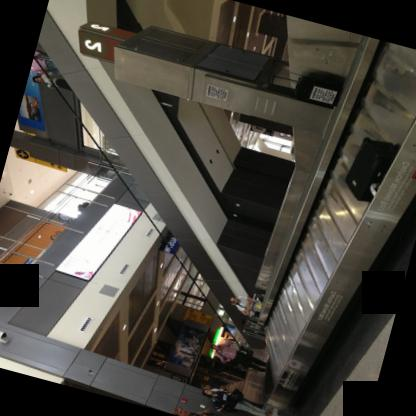backpack: (221, 358, 234, 371)
handbag: (210, 395, 238, 413), (228, 386, 244, 402), (250, 308, 260, 317)
suitcase: (344, 135, 396, 202), (271, 74, 342, 106)
